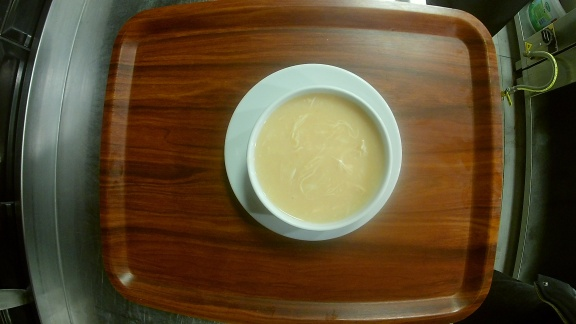tavukcorba: (222, 64, 403, 242)
